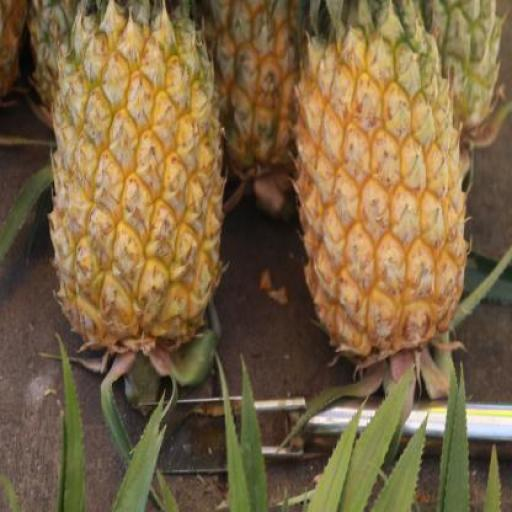Pineapple - v8 v1: (48, 4, 223, 346), (295, 14, 468, 354)
